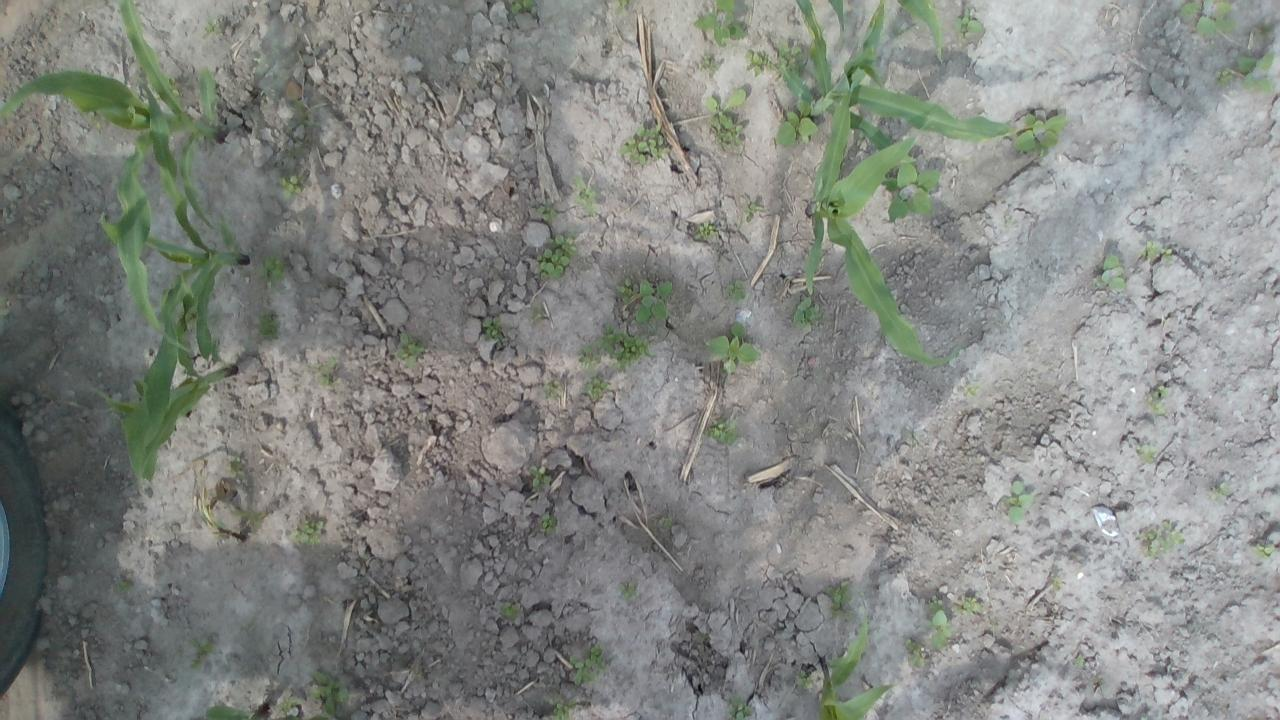Maize: (2, 0, 228, 231), (804, 70, 964, 368), (100, 82, 250, 361), (782, 1, 1032, 162), (93, 278, 240, 489), (816, 608, 897, 720), (896, 0, 944, 65), (201, 696, 278, 720), (827, 0, 846, 53)
Weeds: (886, 158, 940, 222), (284, 96, 328, 160), (705, 322, 760, 373), (704, 87, 748, 150), (596, 324, 652, 373), (616, 278, 674, 323), (1012, 112, 1069, 156), (693, 1, 745, 47), (619, 123, 671, 168), (534, 231, 578, 280), (1180, 0, 1238, 36), (1138, 519, 1184, 558), (310, 671, 350, 714), (569, 642, 609, 685), (777, 105, 817, 145), (1236, 53, 1277, 92), (926, 596, 954, 650), (1002, 479, 1033, 524), (570, 172, 598, 214), (1095, 253, 1125, 292), (396, 332, 426, 368), (954, 8, 984, 40), (744, 50, 778, 77), (778, 41, 804, 76), (794, 296, 824, 326), (311, 355, 338, 388), (826, 582, 852, 616), (290, 519, 324, 545), (190, 634, 214, 669), (706, 418, 738, 444), (1146, 384, 1171, 416), (1140, 240, 1173, 264), (261, 255, 284, 288), (903, 638, 926, 668), (740, 196, 766, 222), (482, 316, 503, 348), (728, 695, 754, 720), (231, 508, 267, 526), (257, 312, 280, 340), (278, 174, 306, 197), (698, 52, 722, 78), (584, 377, 608, 402), (954, 596, 982, 616), (550, 699, 576, 720), (529, 465, 552, 488), (1254, 20, 1276, 44), (226, 454, 247, 479), (537, 198, 558, 222), (726, 280, 747, 302), (578, 347, 598, 369), (542, 380, 564, 400), (1252, 542, 1277, 559), (618, 579, 638, 600), (695, 222, 716, 242), (276, 698, 302, 714), (796, 668, 814, 690), (508, 0, 534, 14), (500, 600, 520, 618), (1137, 444, 1156, 462), (116, 573, 134, 592), (1214, 68, 1234, 85), (541, 512, 556, 534), (204, 17, 222, 35), (1212, 483, 1230, 500), (963, 381, 981, 397), (168, 77, 182, 96), (530, 306, 544, 324), (614, 0, 632, 14), (658, 516, 675, 530), (1050, 576, 1064, 592), (1072, 654, 1086, 667), (697, 634, 711, 644), (702, 600, 711, 608)
